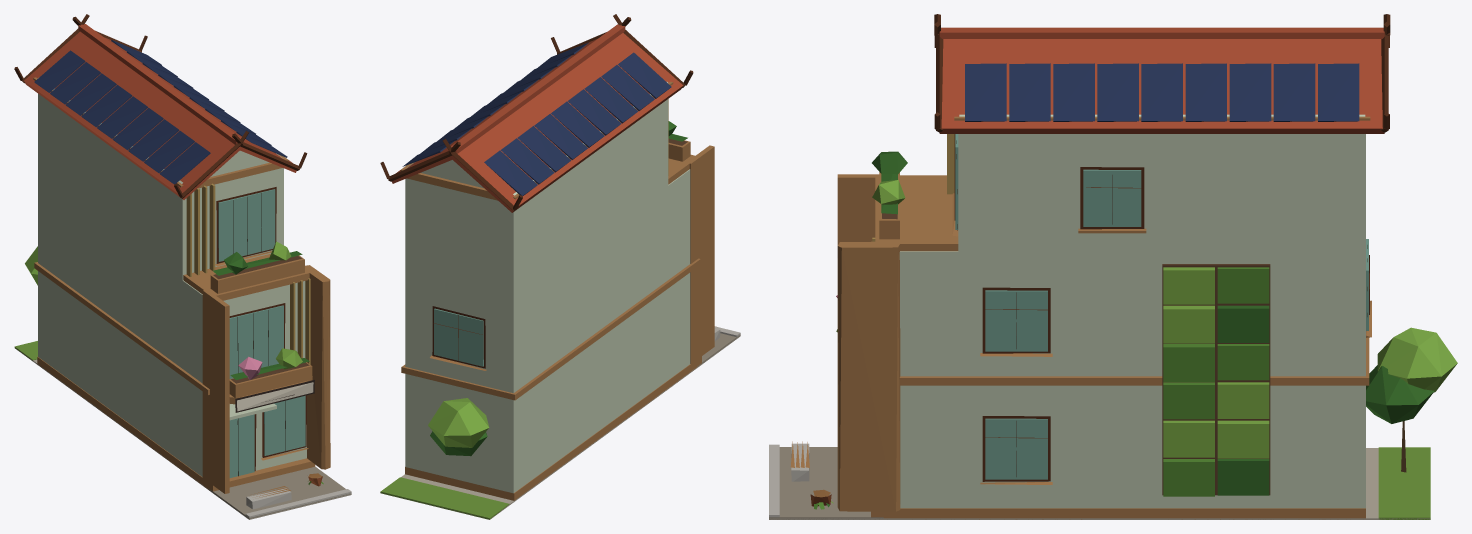
Rendered from bay1_right.glb.
3 views of the same model, side by side, from view 1: azimuth 30°, elevation 25°; view 2: azimuth 150°, elevation 25°; view 3: azimuth 270°, elevation 25° (orthographic). The views are drawn at different scales.
Parts seen in each view (by area): view 1: body; view 2: body; view 3: body.
Part boxes in pixels (x1=…): body: x1=14, y1=14, x2=351, y2=519; body: x1=380, y1=14, x2=740, y2=519; body: x1=769, y1=14, x2=1457, y2=519.
Bounding box in the file's own units: 5.22 × 12.62 × 16.56.
